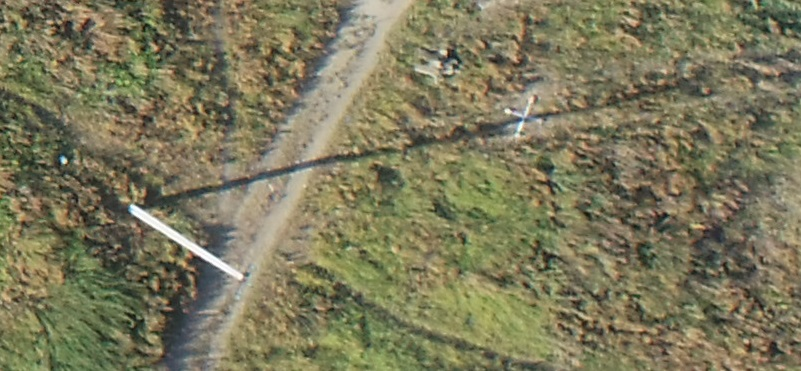opora: (126, 172, 258, 302)
